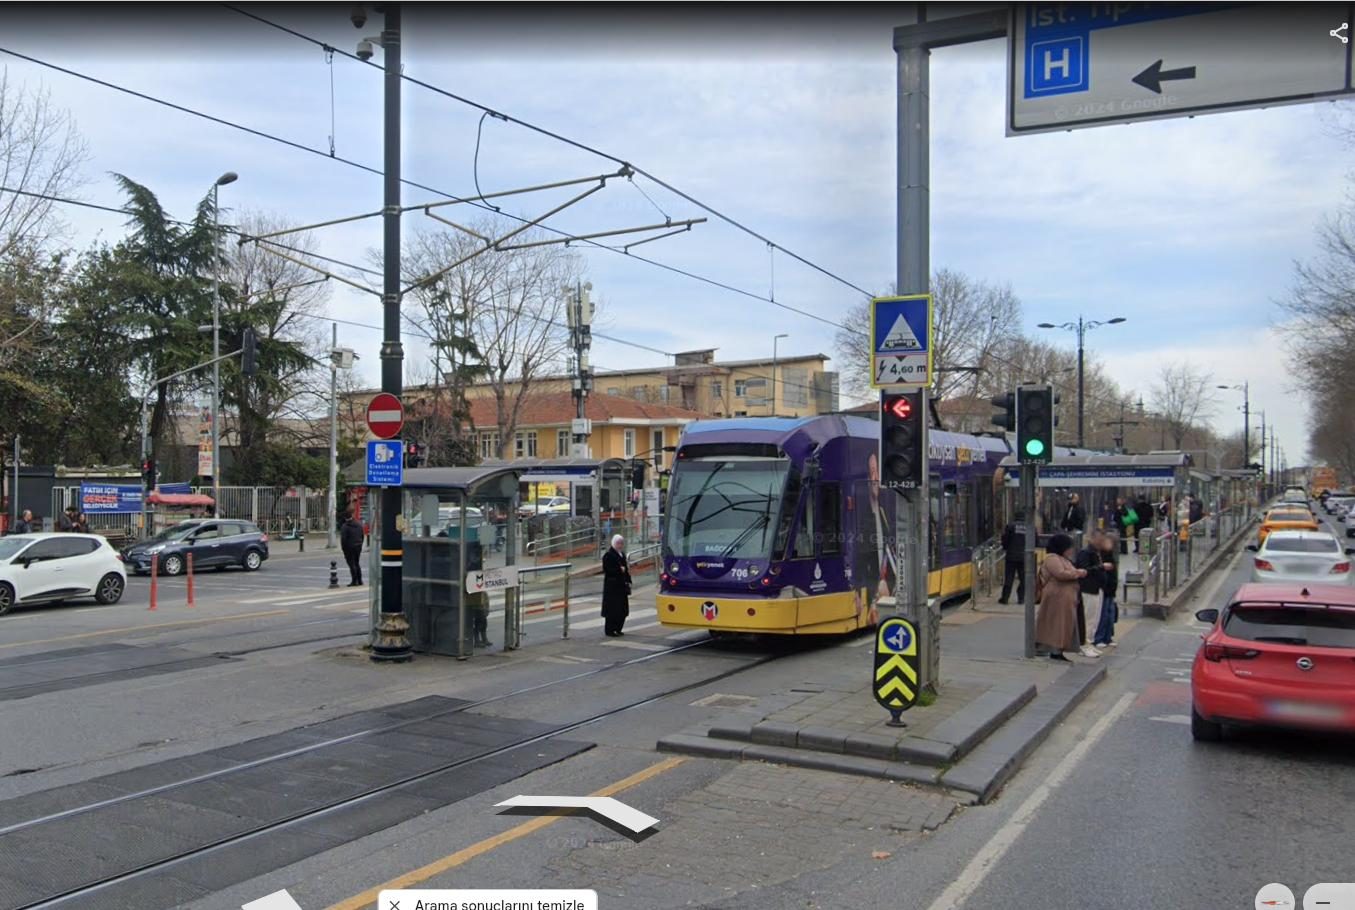greenlight: (1019, 388, 1049, 458)
redlight: (881, 390, 919, 477)
